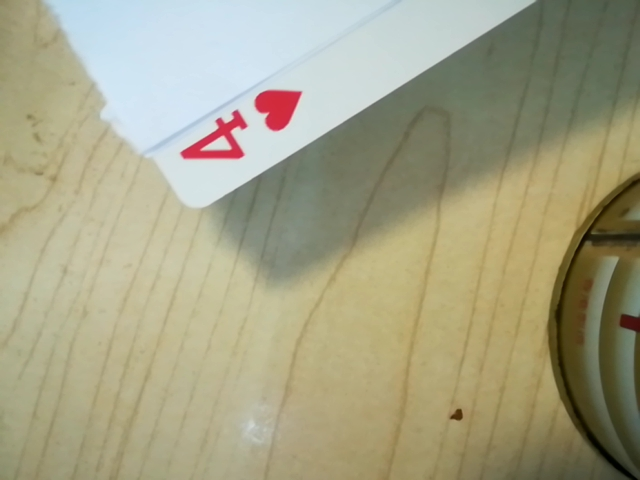hx 4: (162, 84, 302, 176)
